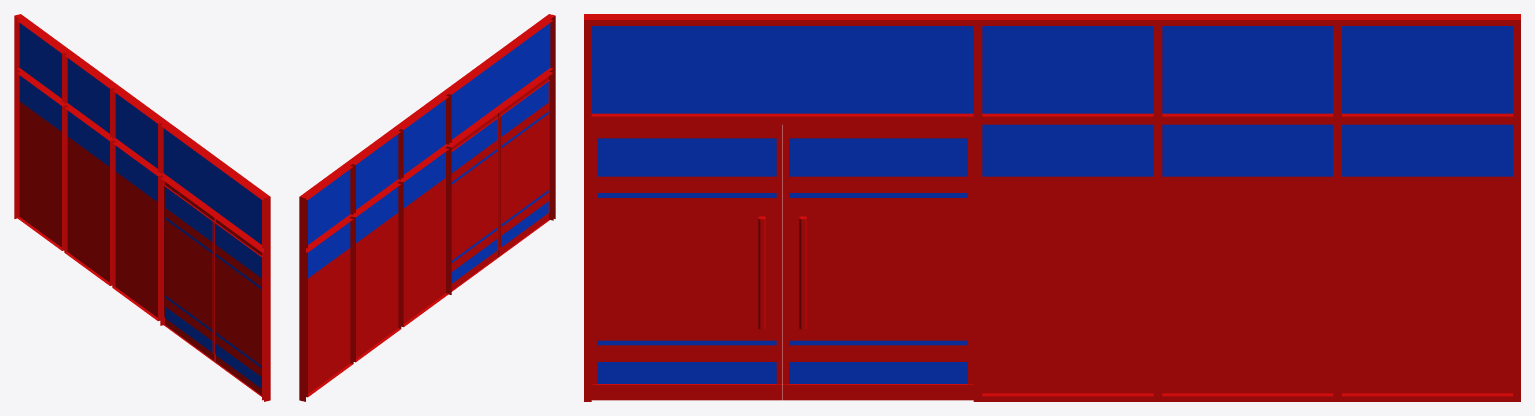
File: wall02_l.fbx
3 views of the same model, side by side, from view 1: azimuth 30°, elevation 25°; view 2: azimuth 150°, elevation 25°; view 3: azimuth 270°, elevation 25° (orthographic). The views are drawn at different scales.
Parts seen in each view (by area): view 1: Plane.004; view 2: Plane.004; view 3: Plane.004.
Part boxes in pixels (<box>): Plane.004: <box>14,14,270,401</box>; Plane.004: <box>299,14,555,401</box>; Plane.004: <box>584,14,1520,401</box>.
Size of the model in its own units: 22.09 by 450 by 1000.
